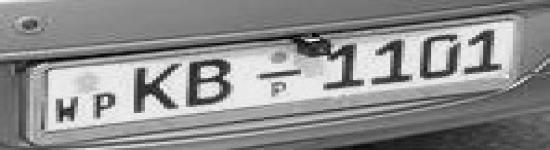-: (248, 66, 305, 82)
0: (420, 31, 463, 82)
1: (460, 28, 512, 77), (318, 40, 367, 90), (370, 36, 416, 87)
B: (185, 56, 237, 110)
K: (128, 60, 182, 118)
P: (90, 90, 120, 122)
W: (51, 96, 85, 124)
